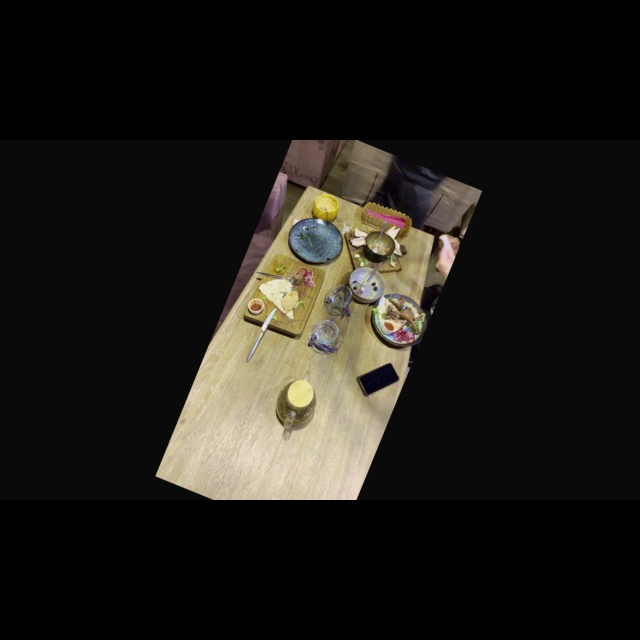Том Ям(пустая тарелка): (333, 218, 413, 288)
закуска(пустая тарелка): (242, 249, 328, 340)
мясо(пустая тарелка): (363, 287, 435, 354)
салат цезарь: (343, 262, 390, 309)
салат(пустая тарелка): (281, 209, 350, 272)
сырный суп(пустая тарелка): (308, 190, 343, 226)
